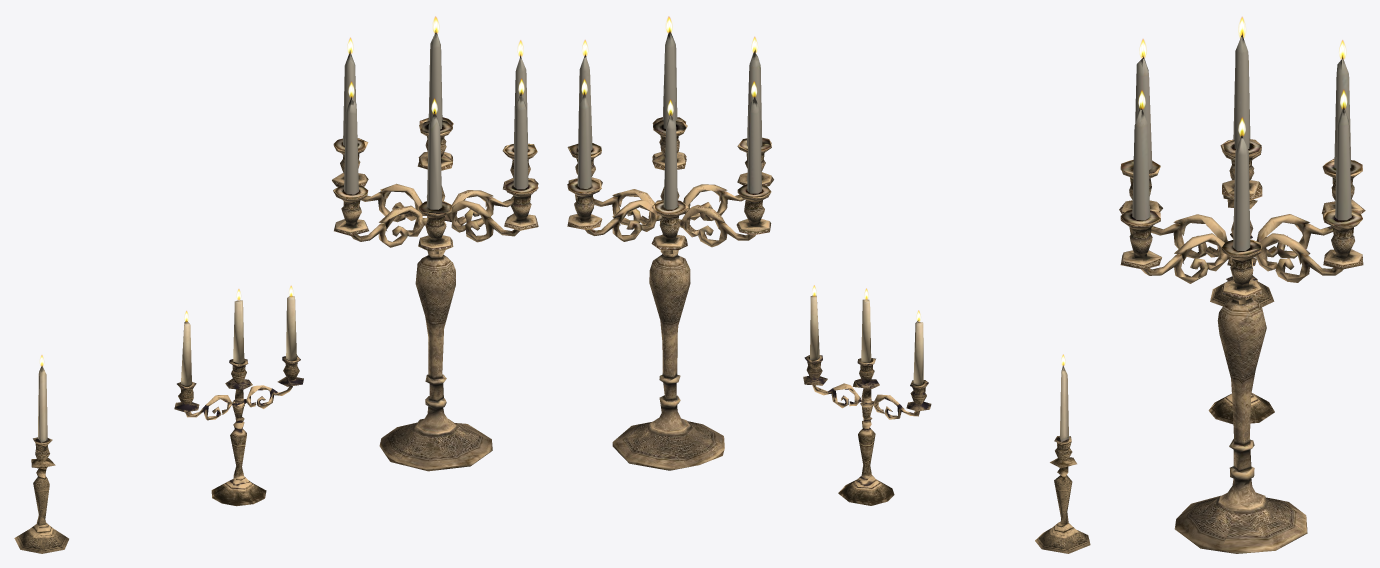
The model's file is brass_candleholders.glb.
3 views of the same model, side by side, from view 1: azimuth 30°, elevation 25°; view 2: azimuth 150°, elevation 25°; view 3: azimuth 270°, elevation 25° (orthographic). The views are drawn at different scales.
Parts seen in each view (by area): view 1: brass_candleholder_03, brass_candleholder_02, brass_candleholder_01; view 2: brass_candleholder_03, brass_candleholder_02, brass_candleholder_01; view 3: brass_candleholder_03, brass_candleholder_02, brass_candleholder_01.
Boxes of the visible parts, x1,y1,x2,y2 form: brass_candleholder_03: [332, 16, 538, 471]; brass_candleholder_02: [174, 286, 303, 506]; brass_candleholder_01: [14, 355, 68, 553]; brass_candleholder_03: [567, 16, 773, 470]; brass_candleholder_02: [803, 285, 931, 505]; brass_candleholder_01: [1035, 354, 1090, 553]; brass_candleholder_03: [1119, 17, 1365, 553]; brass_candleholder_02: [1208, 233, 1274, 424]; brass_candleholder_01: [1210, 178, 1274, 306].
Bounding box in the file's own units: 1.06 × 0.8353 × 0.3667.
Materials: 5 (5 with a texture image).
